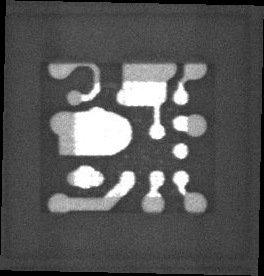NO_DIE: (40, 62, 215, 215)
